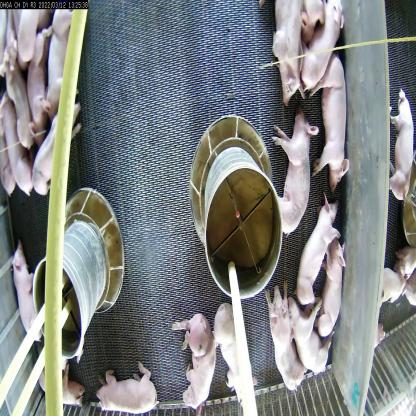Pig: (27, 88, 83, 206), (277, 113, 327, 240), (38, 3, 76, 146), (208, 284, 254, 402), (17, 21, 58, 149), (314, 50, 348, 203), (3, 27, 39, 171), (266, 276, 307, 400), (5, 232, 46, 344), (263, 1, 304, 113), (174, 307, 217, 412), (0, 95, 36, 217), (284, 291, 332, 380), (303, 0, 346, 96), (299, 192, 333, 306), (91, 360, 161, 415), (322, 236, 352, 343), (36, 356, 88, 416)
